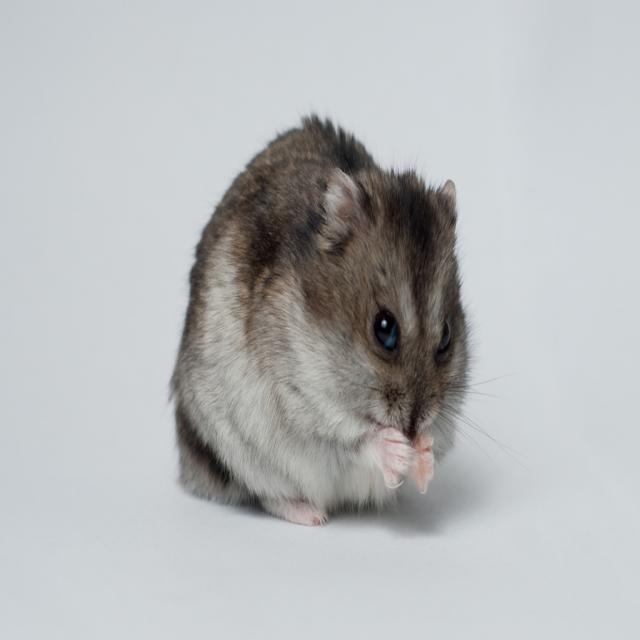rat: (170, 114, 475, 528)
